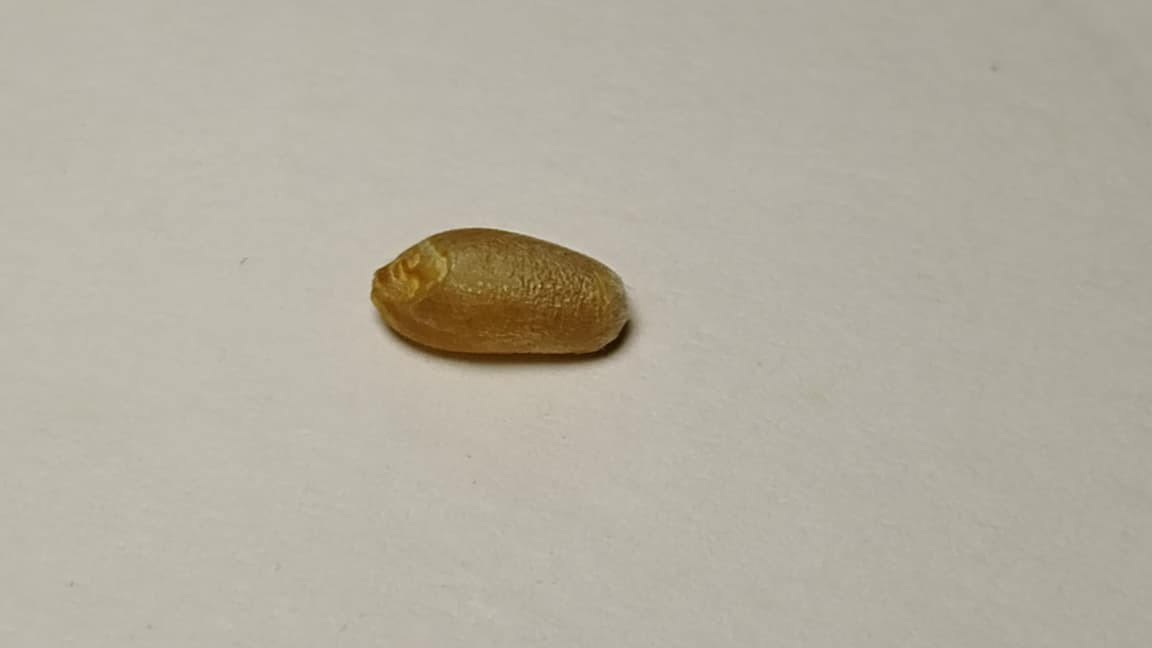healthy: (372, 227, 629, 354)
